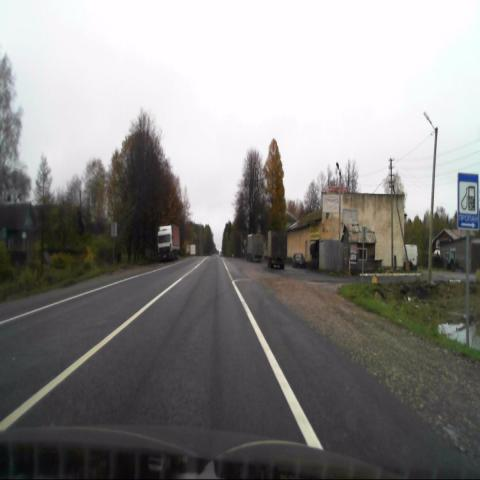7_3: (457, 173, 478, 230)
